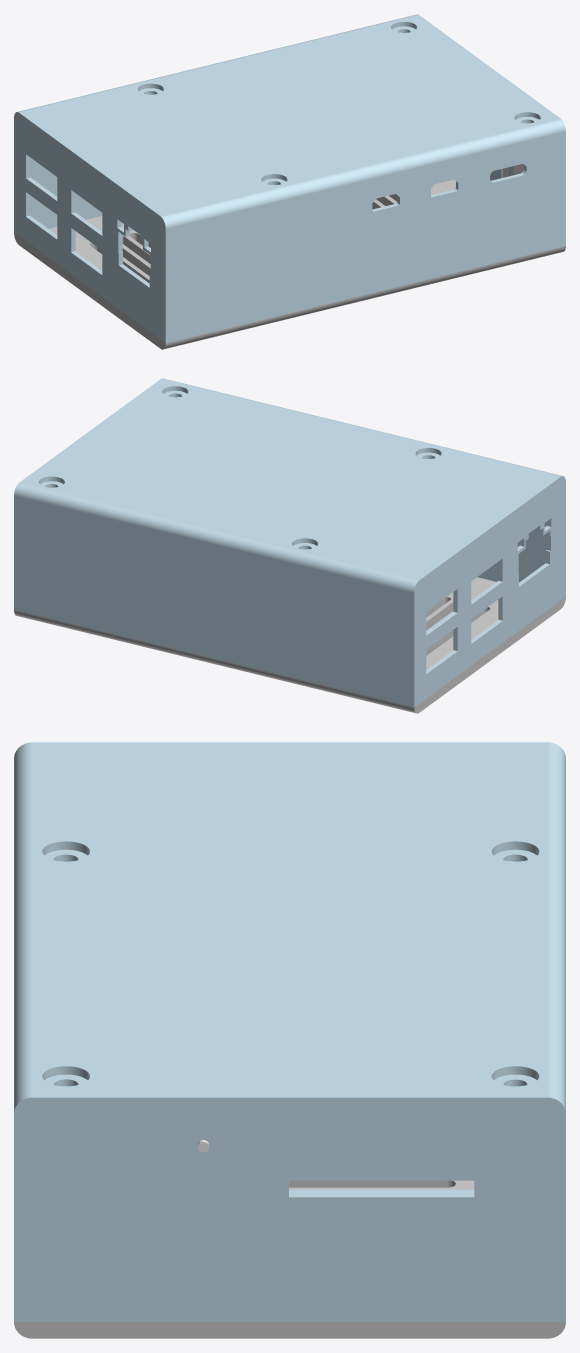
The model's file is RPI 5B Enclosure.gltf.
3 renders of one model, top to bottom at view 1: azimuth 30°, elevation 25°; view 2: azimuth 150°, elevation 25°; view 3: azimuth 270°, elevation 25°, orthographic. The views are drawn at different scales.
Parts seen in each view (by area): view 1: Part 3, Part 1; view 2: Part 3, Part 1; view 3: Part 3, Part 1.
Boxes of the visible parts, x1,y1,x2,y2 form: Part 3: (14, 14, 565, 343); Part 1: (14, 164, 565, 349); Part 3: (14, 378, 565, 707); Part 1: (14, 577, 565, 713); Part 3: (14, 742, 565, 1321); Part 1: (14, 1180, 565, 1338).
Size of the model in its own units: 0.0922 by 0.029 by 0.0602.
